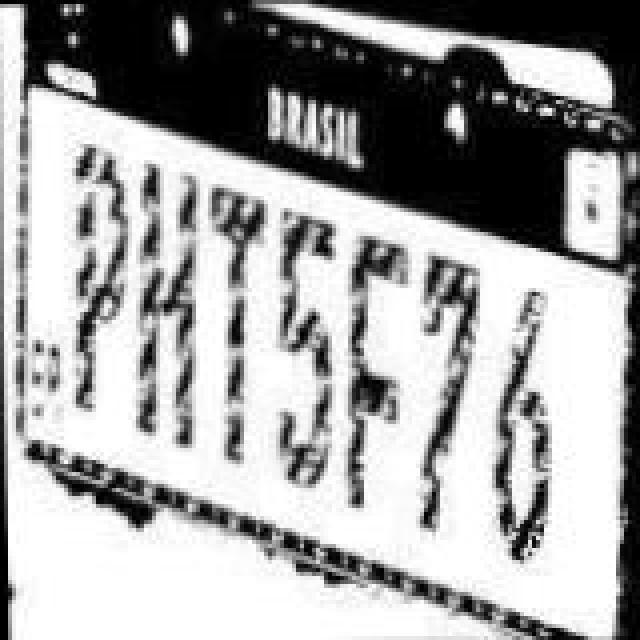5: (270, 200, 342, 500)
6: (486, 268, 562, 564)
7: (408, 240, 488, 528)
F: (342, 228, 414, 520)
H: (134, 152, 206, 452)
P: (70, 132, 134, 420)
T: (208, 176, 276, 480)
